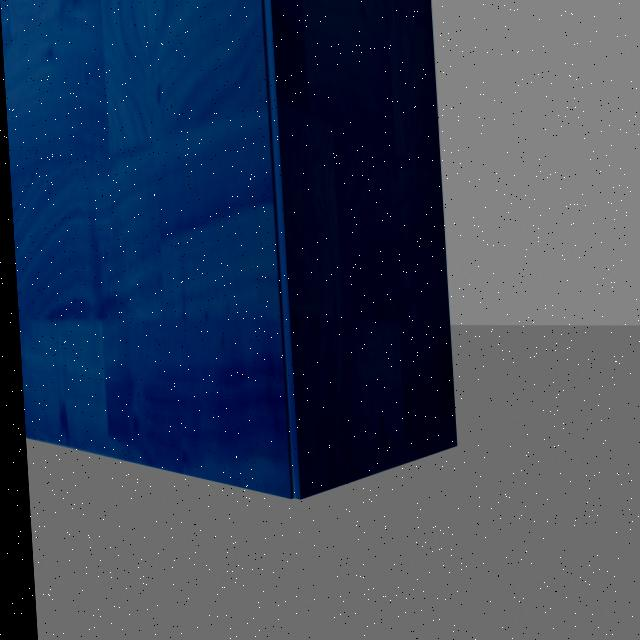shelf: (0, 0, 508, 560)
